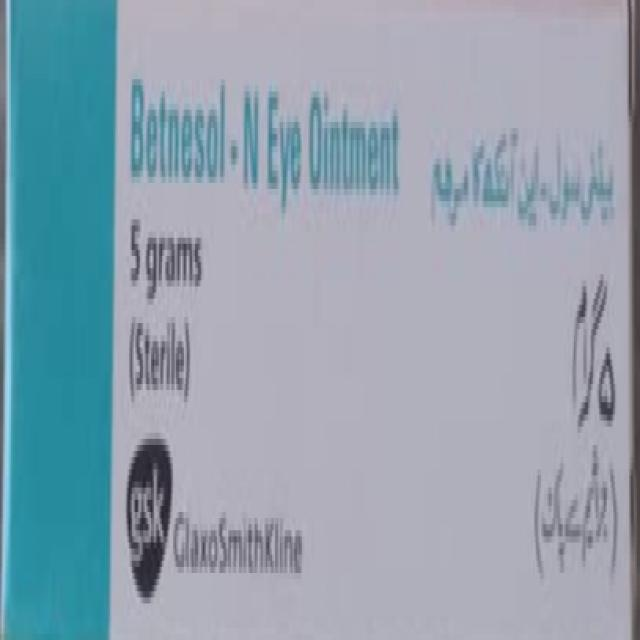drug-name: (126, 73, 405, 212)
